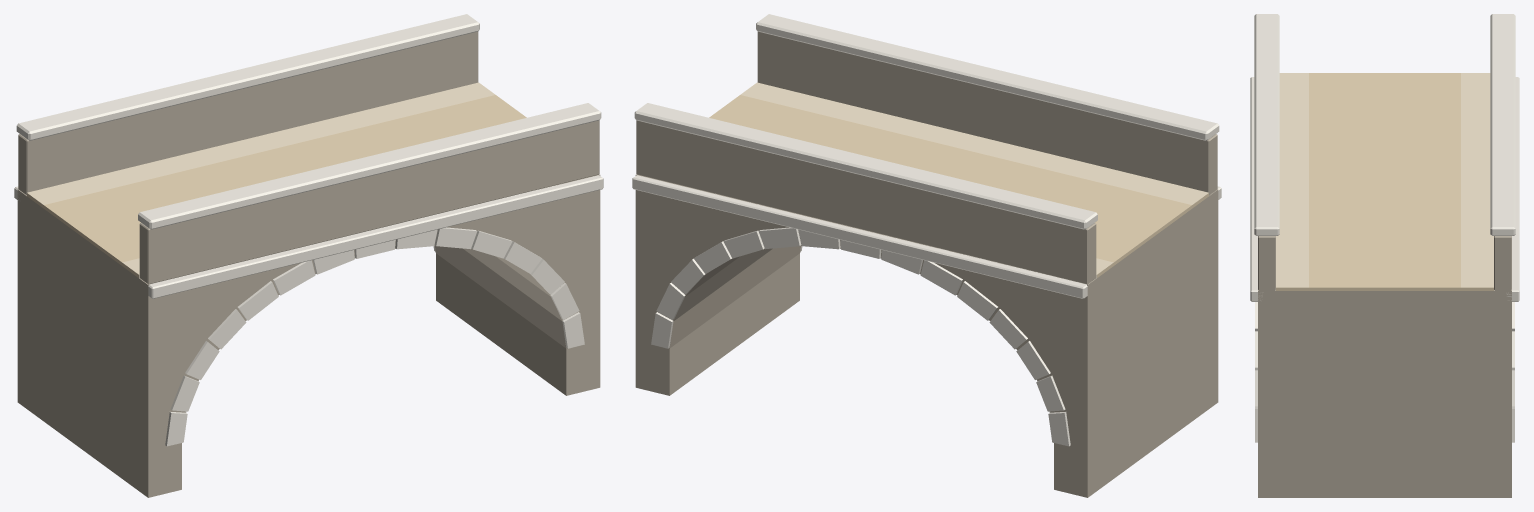
The model's file is bridge_span.glb.
3 renders of one model, left to right at view 1: azimuth 30°, elevation 25°; view 2: azimuth 150°, elevation 25°; view 3: azimuth 270°, elevation 25°, orthographic. The views are drawn at different scales.
Parts seen in each view (by area): view 1: span; view 2: span; view 3: span.
Boxes of the visible parts, box(x1,y1,x2,y2) form: span: box(14, 14, 603, 497); span: box(632, 14, 1221, 497); span: box(1250, 14, 1519, 497).
Bounding box in the file's own units: 8 × 4.7 × 4.24.
